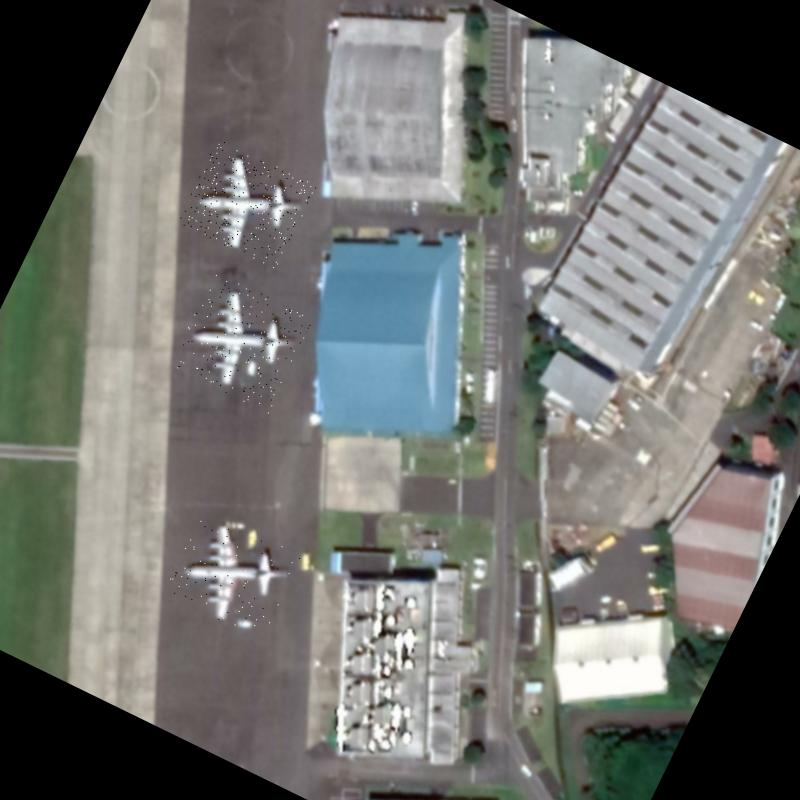A9: (169, 270, 314, 414), (162, 504, 304, 640), (176, 138, 316, 272)
